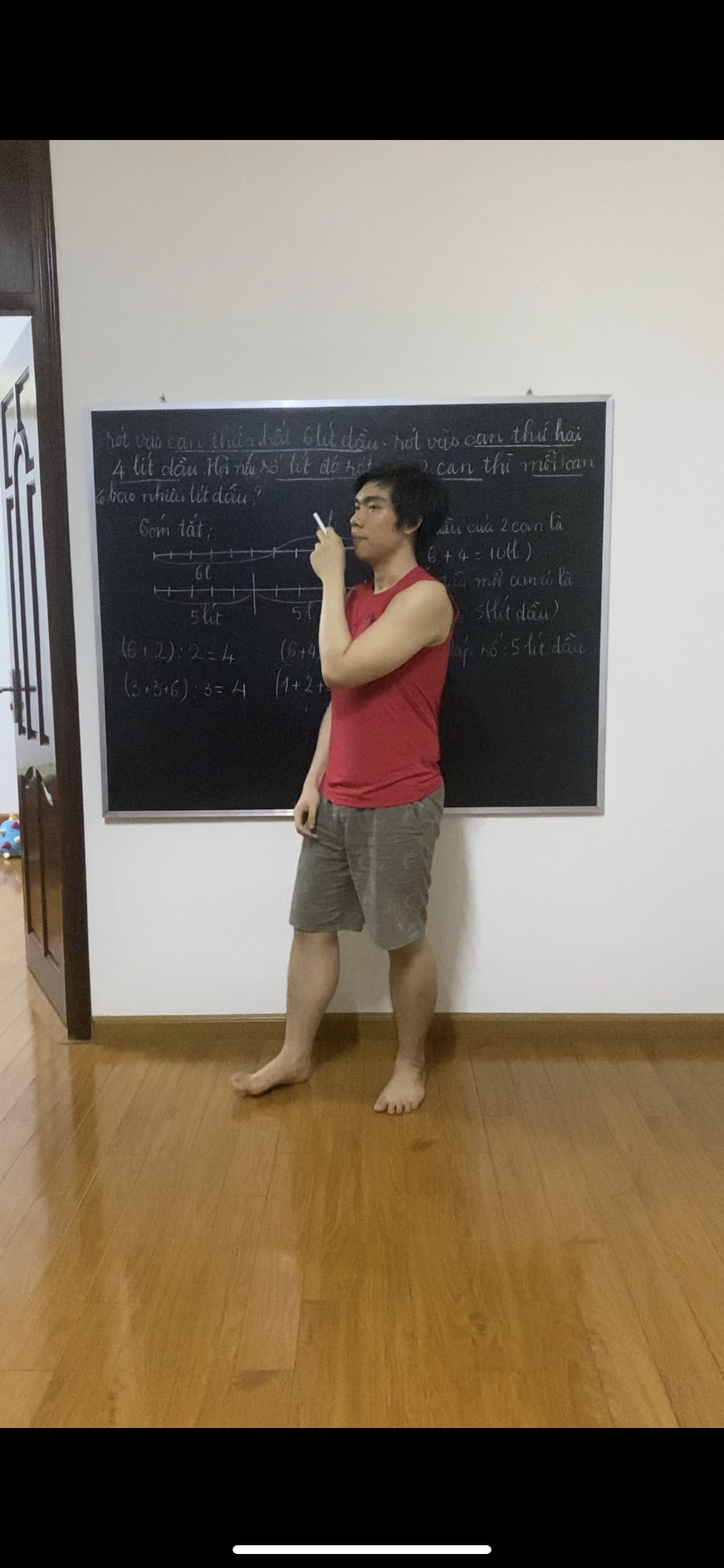cigarette: (310, 509, 327, 536)
person: (231, 469, 459, 1118)
